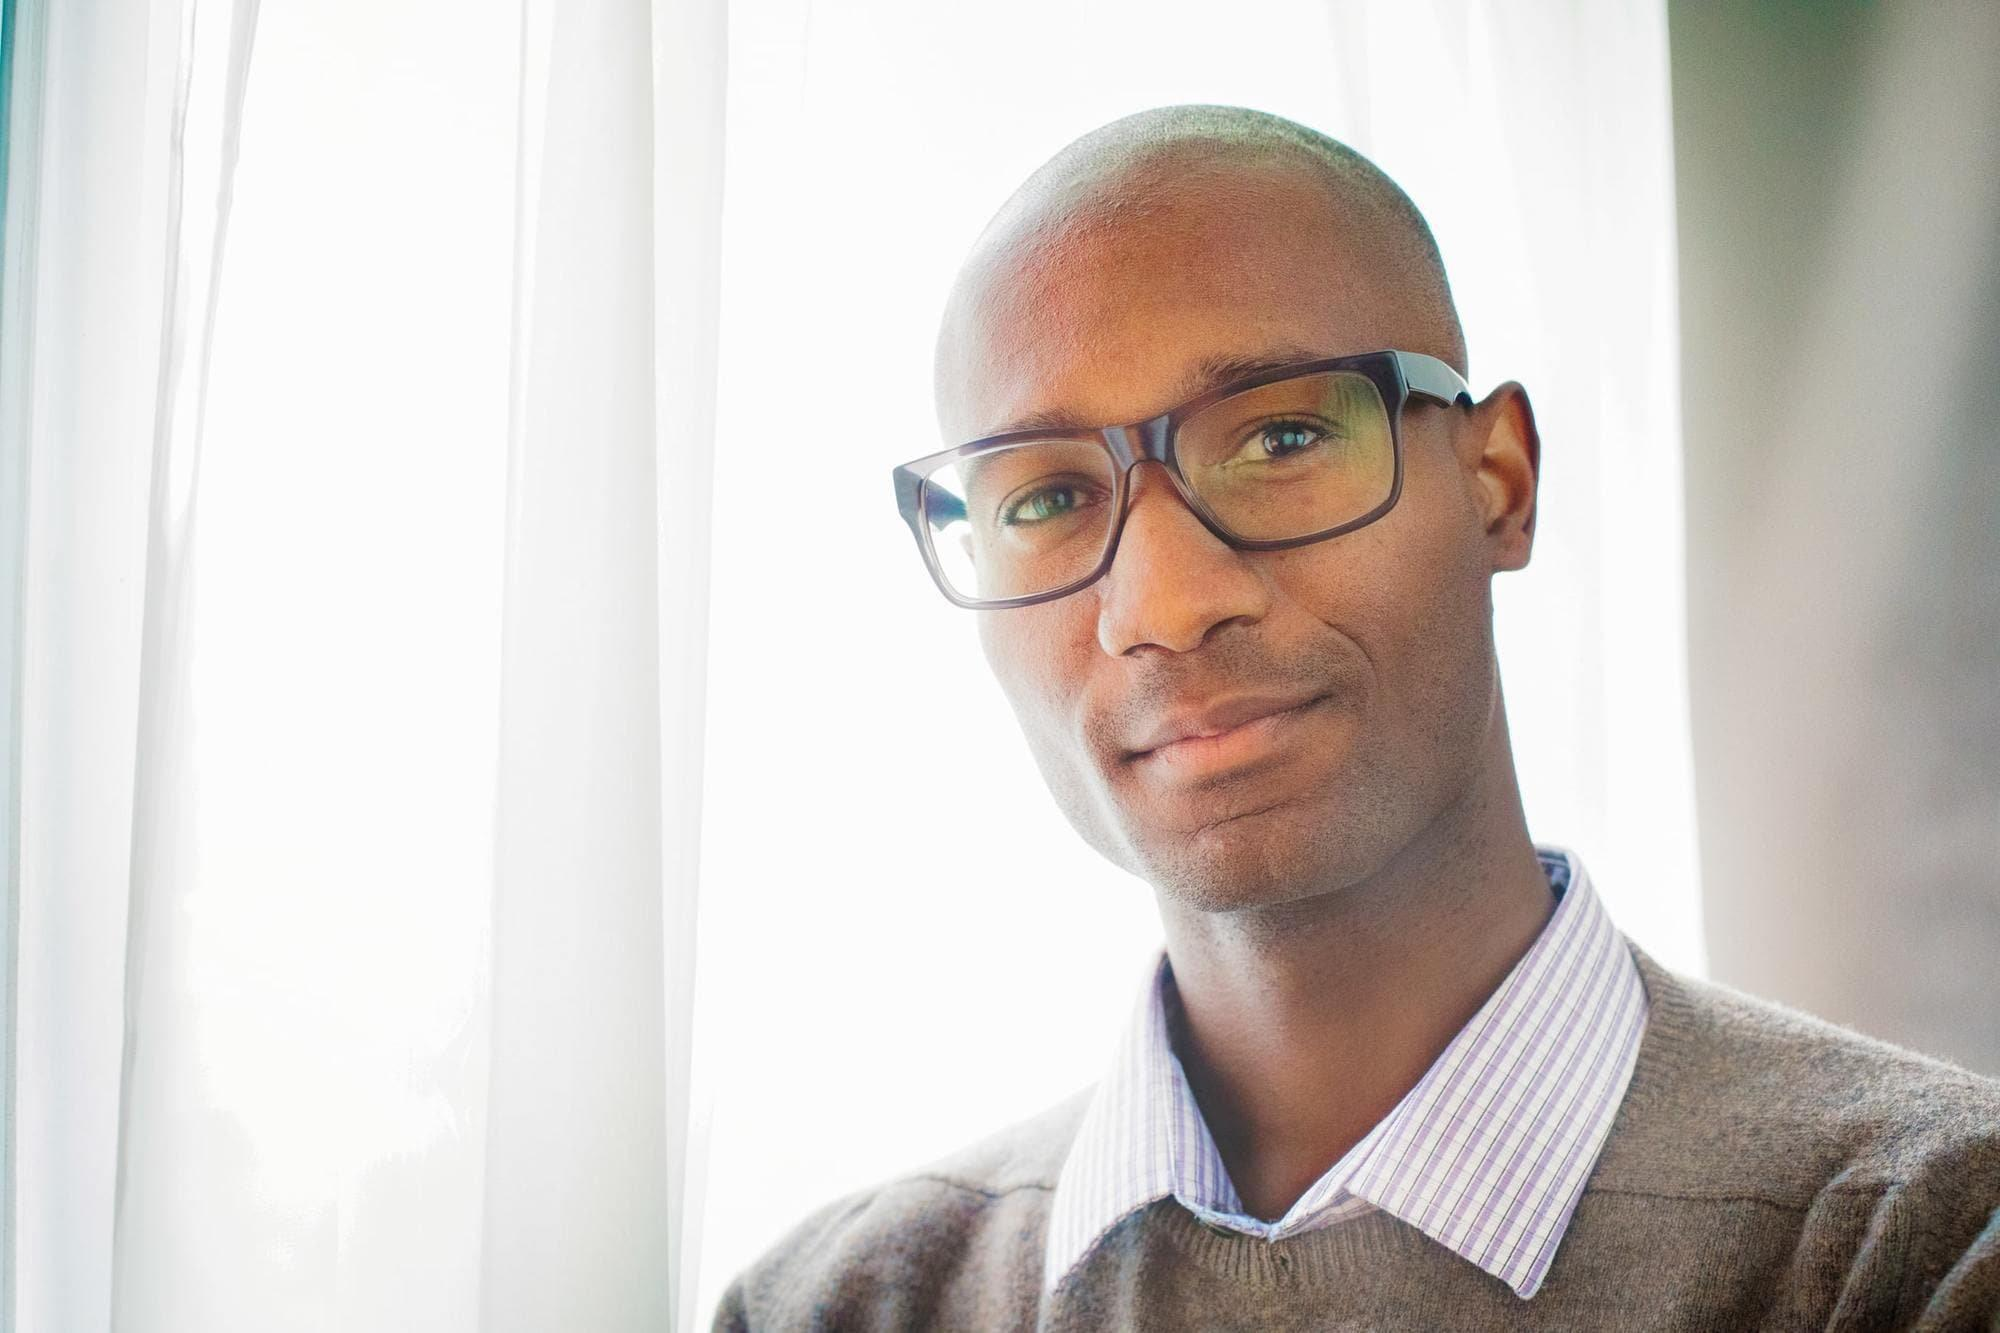Sober: (931, 314, 1477, 912)
